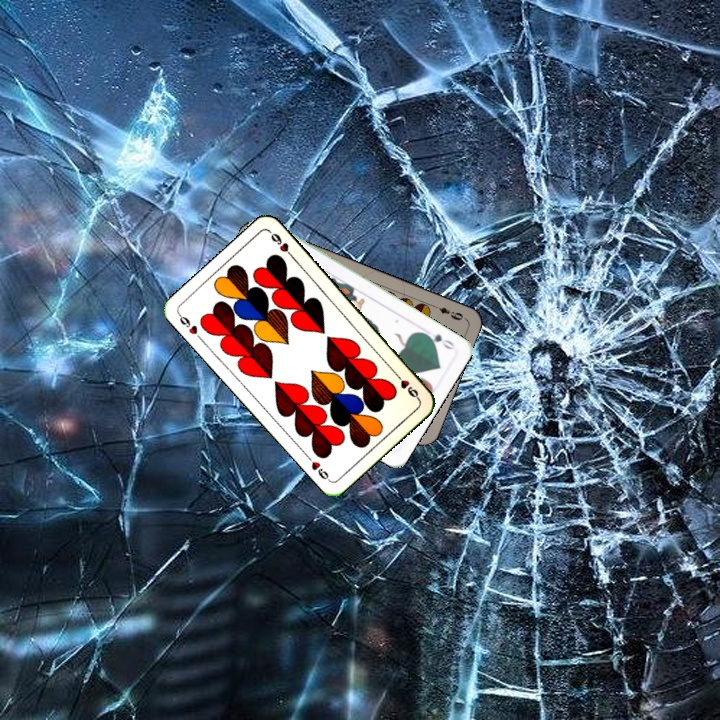E9: (428, 301, 467, 323)
GO: (419, 329, 457, 352)
H9: (391, 369, 422, 402), (175, 310, 205, 344)
